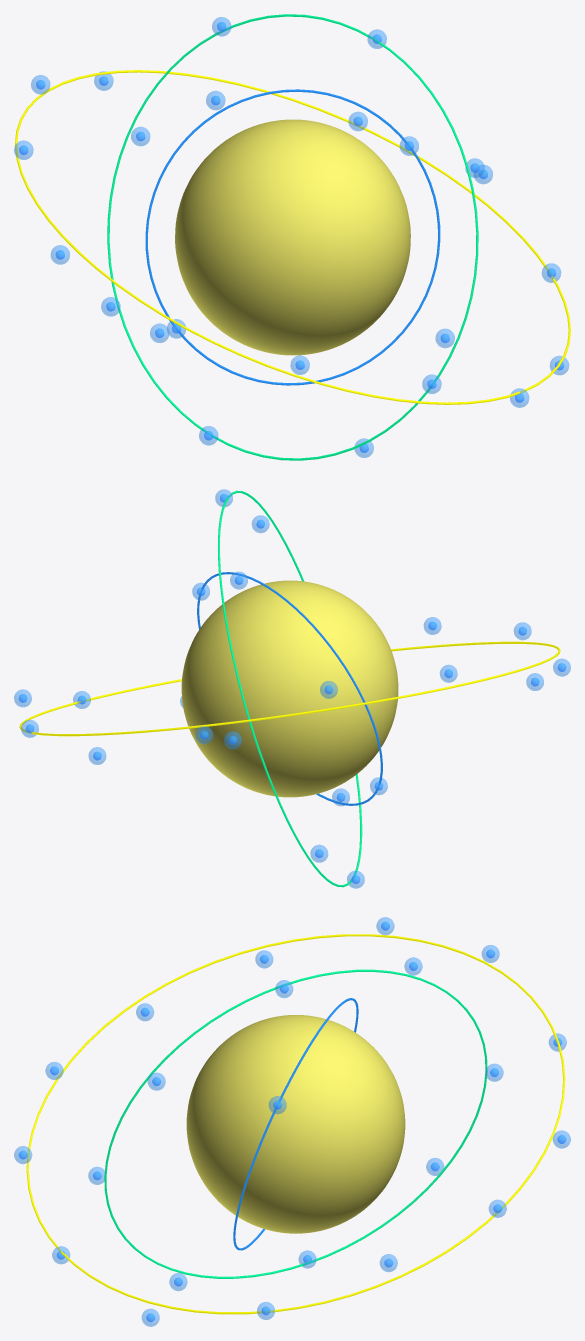
3 views of the same model, one above another, from view 1: azimuth 30°, elevation 25°; view 2: azimuth 150°, elevation 25°; view 3: azimuth 270°, elevation 25° (orthographic). The views are drawn at different scales.
Visible parts, largest first — view 1: V, object 24, object 7, object 2; view 2: V, object 24, object 7, object 2; view 3: V, object 24, object 7, object 2.
Boxes of the visible parts, box(x1,y1,x2,y2) form: V: box(175, 119, 410, 355); object 24: box(15, 70, 570, 404); object 7: box(107, 14, 478, 460); object 2: box(145, 89, 440, 385); V: box(181, 580, 398, 797); object 24: box(19, 641, 560, 736); object 7: box(218, 490, 362, 887); object 2: box(197, 572, 382, 805); V: box(186, 1015, 405, 1233); object 24: box(26, 934, 565, 1314); object 7: box(104, 969, 487, 1278); object 2: box(233, 998, 358, 1250).
Bounding box in the file's own units: 4.76 × 3.45 × 4.87.
